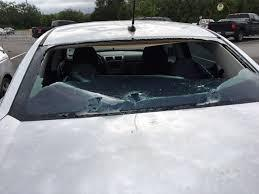Front-Windscreen-Damage: (41, 37, 232, 113)
